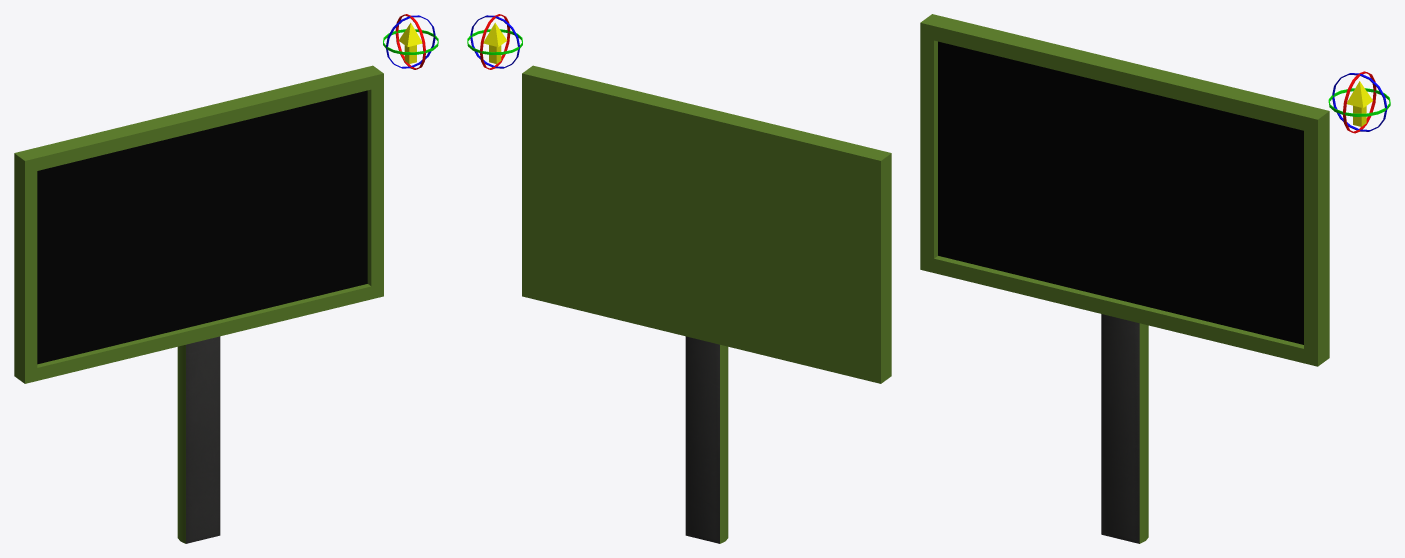
The model's file is GreenScreenTool.fbx.
3 views of the same model, side by side, from view 1: azimuth 30°, elevation 25°; view 2: azimuth 150°, elevation 25°; view 3: azimuth 330°, elevation 25° (orthographic). The views are drawn at different scales.
Parts seen in each view (by area): view 1: DisplayPanel, Gizmo, LightDirection; view 2: DisplayPanel, Gizmo, LightDirection; view 3: DisplayPanel, Gizmo, LightDirection.
Part boxes in pixels (left/top/right/bottom): DisplayPanel: left=14, top=65, right=383, bottom=543; Gizmo: left=383, top=14, right=438, bottom=69; LightDirection: left=398, top=22, right=422, bottom=63; DisplayPanel: left=522, top=65, right=891, bottom=543; Gizmo: left=467, top=14, right=522, bottom=69; LightDirection: left=483, top=22, right=507, bottom=63; DisplayPanel: left=920, top=14, right=1329, bottom=543; Gizmo: left=1328, top=71, right=1390, bottom=133; LightDirection: left=1347, top=81, right=1372, bottom=126.
Bounding box in the file's own units: 66.68 × 71.86 × 7.77.
Materials: 1 (1 with a texture image).
